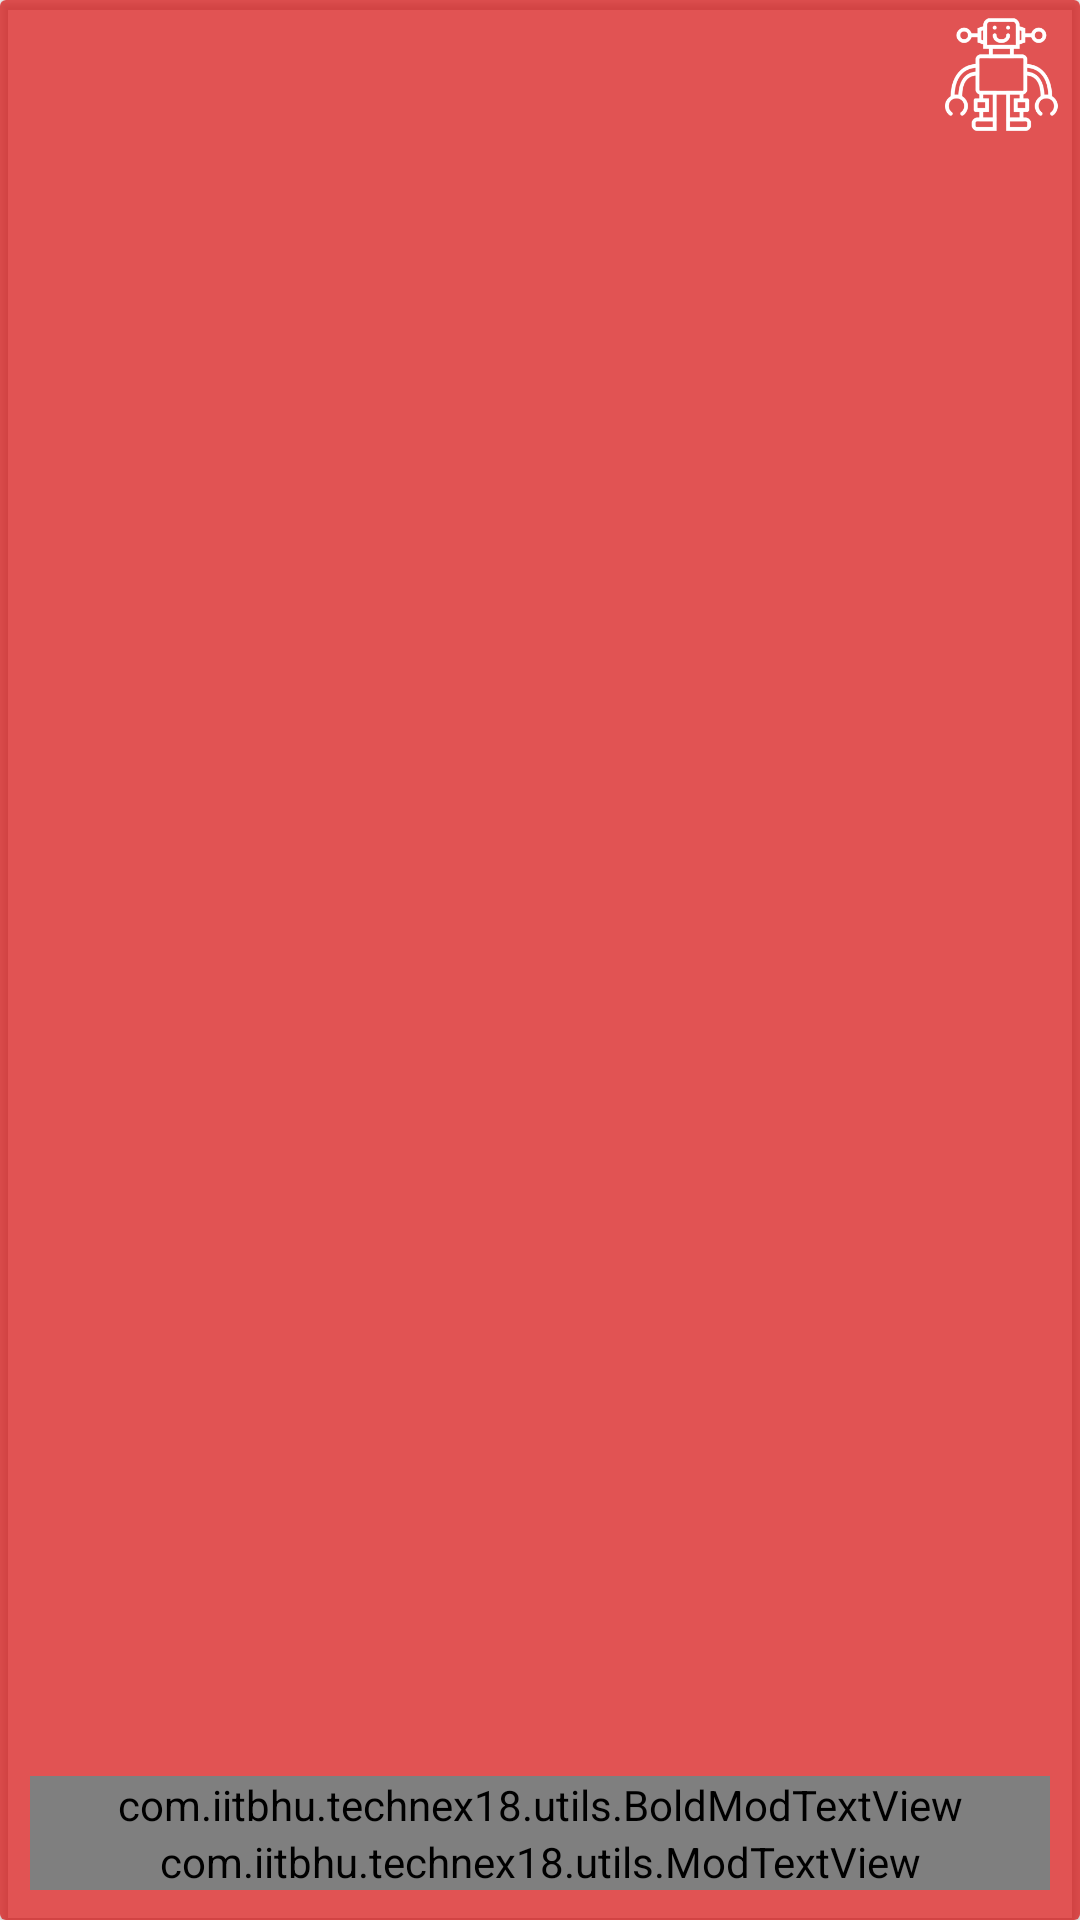

Where icons sit on this 1080px×1920px app screen, as [left=x1, top=y1, right=x2, bottom=y2]:
robo: [left=945, top=0, right=1080, bottom=131]
